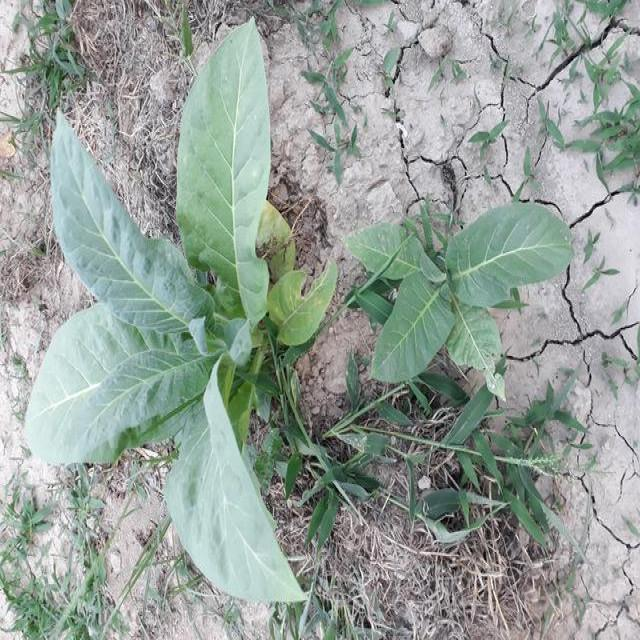crop: (21, 21, 322, 606)
